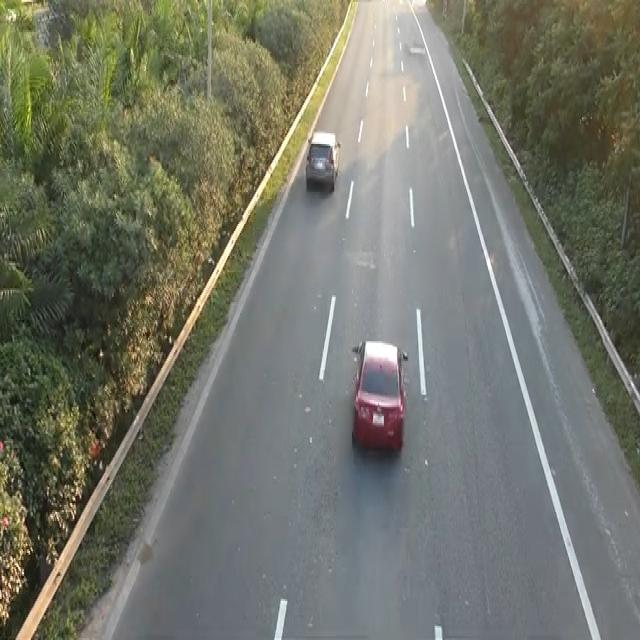bus: (349, 336, 408, 455), (304, 128, 341, 192)
